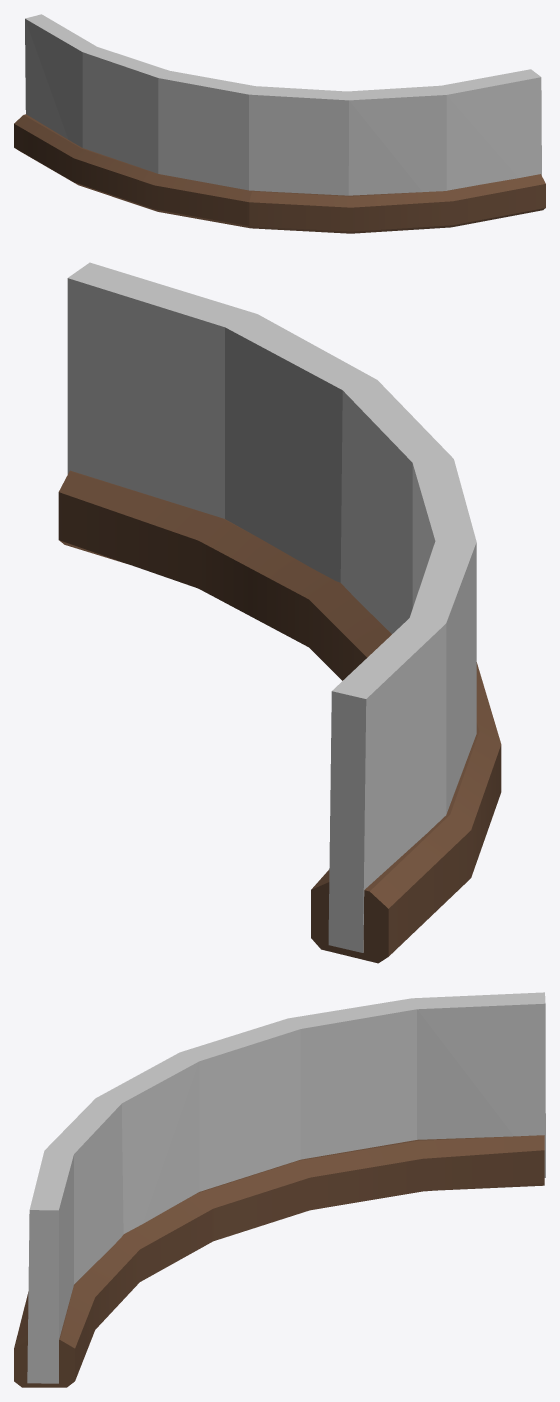
The model's file is SM_Bld_Stairs_Railing_Round_01.fbx.
3 views of the same model, one above another, from view 1: azimuth 30°, elevation 25°; view 2: azimuth 150°, elevation 25°; view 3: azimuth 270°, elevation 25° (orthographic). The views are drawn at different scales.
Visible parts, largest first — view 1: SM_Bld_Stairs_Railing_Round_01_ConvexHulls, SM_Bld_Stairs_Railing_Round_01; view 2: SM_Bld_Stairs_Railing_Round_01_ConvexHulls, SM_Bld_Stairs_Railing_Round_01; view 3: SM_Bld_Stairs_Railing_Round_01_ConvexHulls, SM_Bld_Stairs_Railing_Round_01.
Part boxes in pixels (x1=…): SM_Bld_Stairs_Railing_Round_01_ConvexHulls: x1=25, y1=14, x2=541, y2=195; SM_Bld_Stairs_Railing_Round_01: x1=14, y1=114, x2=545, y2=233; SM_Bld_Stairs_Railing_Round_01_ConvexHulls: x1=67, y1=262, x2=476, y2=952; SM_Bld_Stairs_Railing_Round_01: x1=58, y1=470, x2=501, y2=963; SM_Bld_Stairs_Railing_Round_01_ConvexHulls: x1=27, y1=992, x2=545, y2=1383; SM_Bld_Stairs_Railing_Round_01: x1=14, y1=1135, x2=544, y2=1387.
Size of the model in its own units: 266 by 266 by 98.3.
2 materials, 1 textured.
